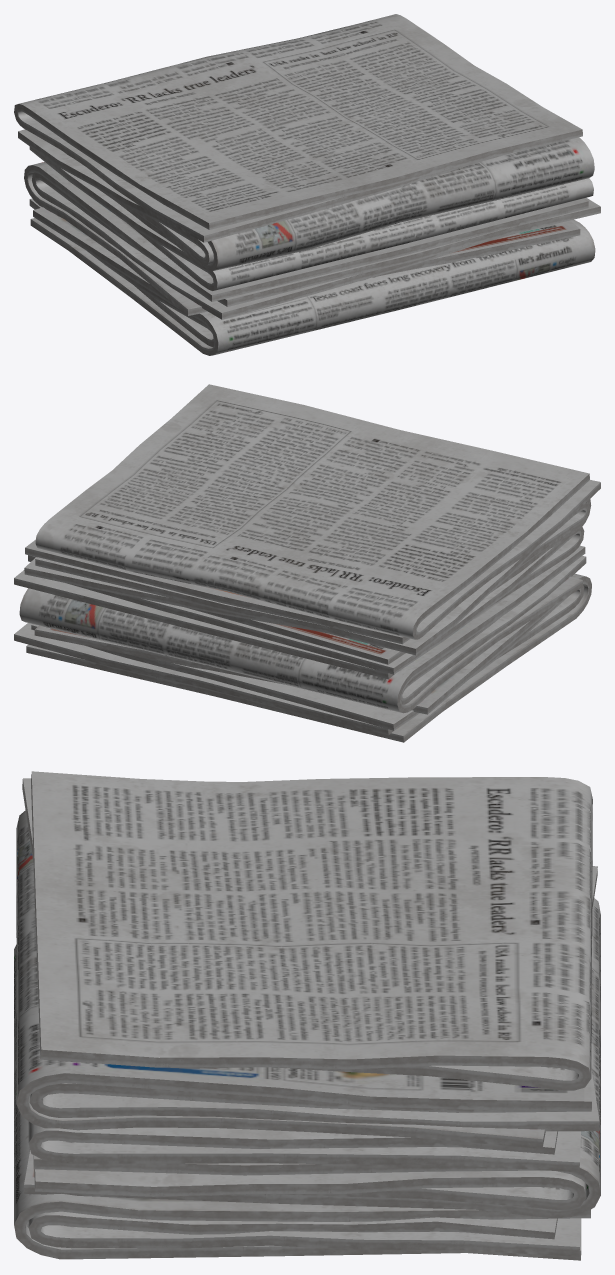
The model's file is SM_Small_Trash_NewsPaper_01.FBX.
3 renders of one model, top to bottom at view 1: azimuth 30°, elevation 25°; view 2: azimuth 150°, elevation 25°; view 3: azimuth 270°, elevation 25°, orthographic. The views are drawn at different scales.
Parts seen in each view (by area): view 1: SM_Small_Trash_NewsPaper_01_LOD0; view 2: SM_Small_Trash_NewsPaper_01_LOD0; view 3: SM_Small_Trash_NewsPaper_01_LOD0.
Boxes of the visible parts, x1=… form: SM_Small_Trash_NewsPaper_01_LOD0: x1=14, y1=14, x2=600, y2=355; SM_Small_Trash_NewsPaper_01_LOD0: x1=14, y1=384, x2=600, y2=742; SM_Small_Trash_NewsPaper_01_LOD0: x1=14, y1=771, x2=600, y2=1260.
Size of what is drawn, in the model's own units: 32.4 by 26.79 by 10.62.
